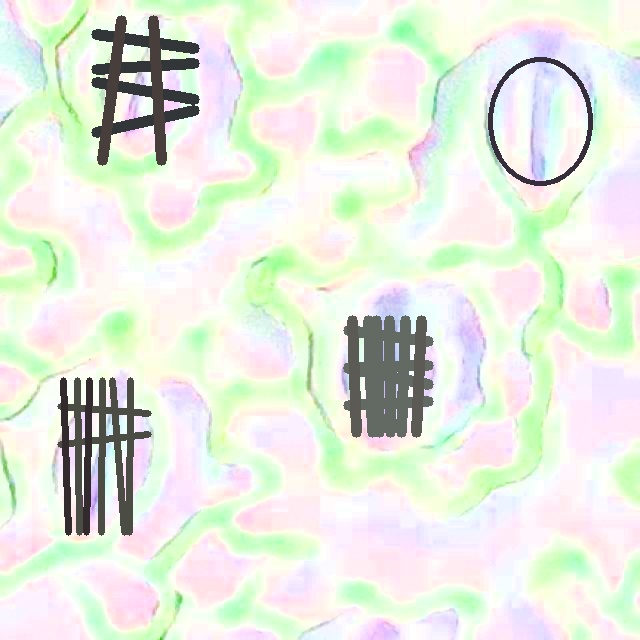open: (91, 16, 199, 164), (57, 378, 150, 534), (488, 56, 593, 186), (344, 315, 433, 436)
